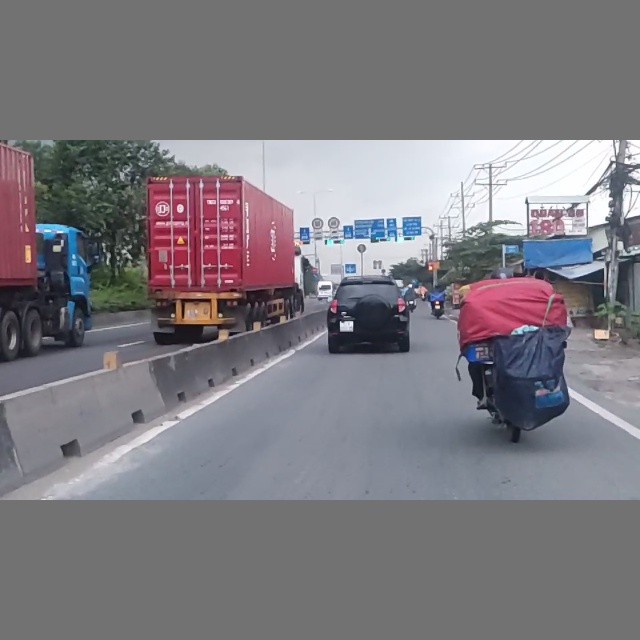P.127*60: (329, 217, 340, 229)
P.127*80: (312, 218, 324, 229)
